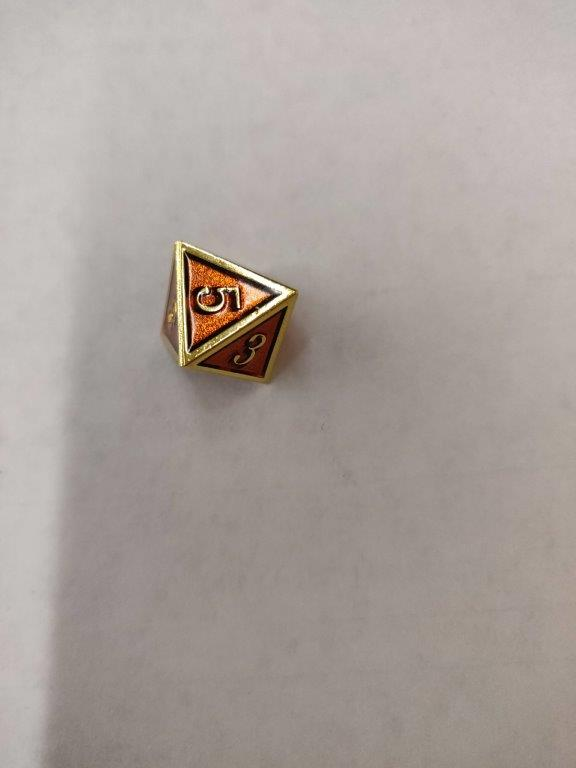d8-5: (152, 239, 298, 388)
